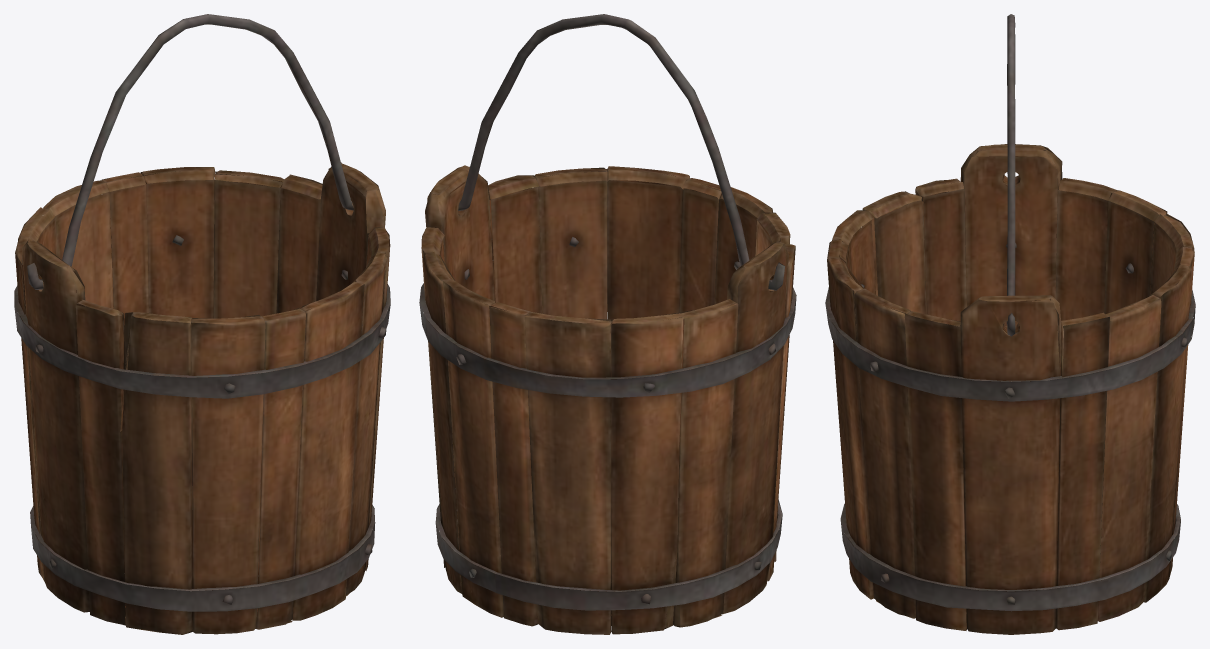
Rendered from bucket.glb.
The picture shows the model from 3 angles, left to right: view 1: azimuth 30°, elevation 25°; view 2: azimuth 150°, elevation 25°; view 3: azimuth 270°, elevation 25°; orthographic projection.
Parts seen in each view (by area): view 1: wooden_bucket_01, wooden_bucket_01_handle; view 2: wooden_bucket_01, wooden_bucket_01_handle; view 3: wooden_bucket_01, wooden_bucket_01_handle.
Boxes of the visible parts, bbox=[...] form: wooden_bucket_01: bbox=[14, 162, 390, 634]; wooden_bucket_01_handle: bbox=[27, 14, 353, 289]; wooden_bucket_01: bbox=[419, 165, 796, 634]; wooden_bucket_01_handle: bbox=[458, 14, 785, 290]; wooden_bucket_01: bbox=[825, 144, 1195, 634]; wooden_bucket_01_handle: bbox=[1006, 14, 1015, 336].
Size of the model in its own units: 0.3674 by 0.5506 by 0.3412.
Materials: 1 (1 with a texture image).
